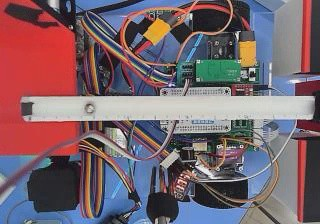ironball: (83, 102, 95, 113)
